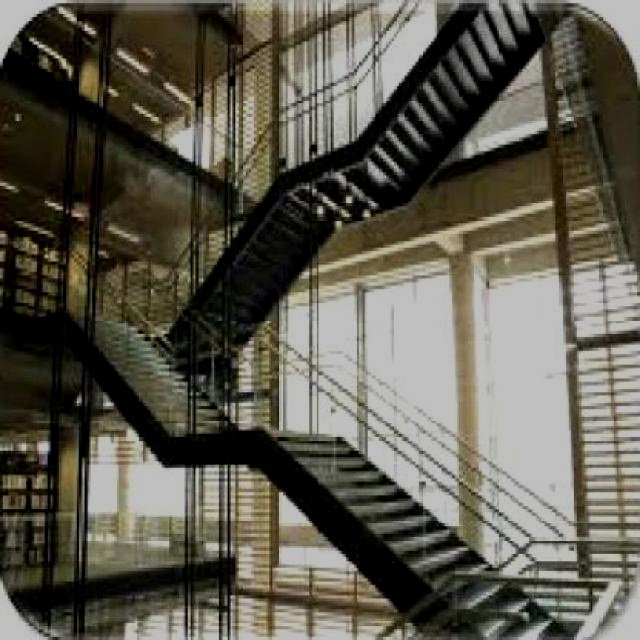stair: (60, 277, 575, 638)
